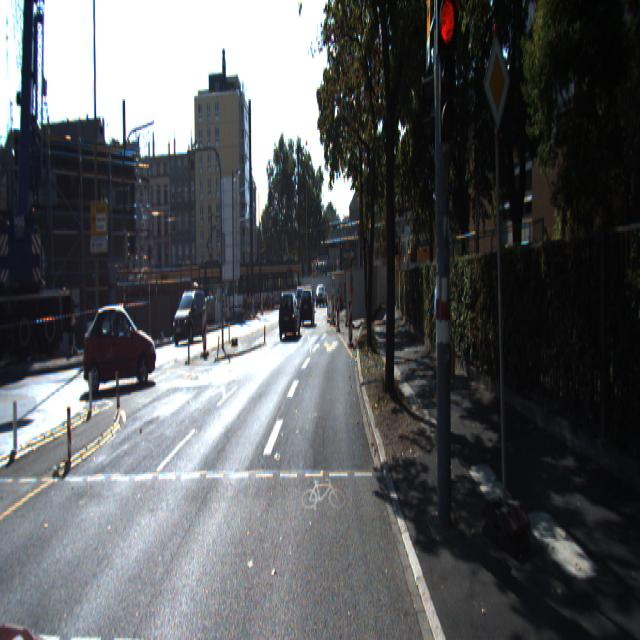Car: (0, 372, 94, 638), (85, 301, 158, 394), (172, 281, 208, 337), (277, 287, 300, 336), (299, 283, 315, 323)
